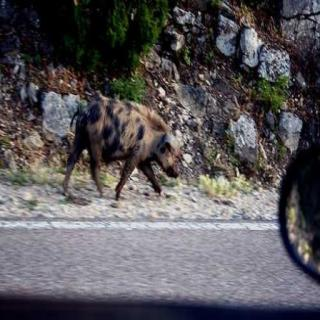Pig: (54, 67, 200, 230)
